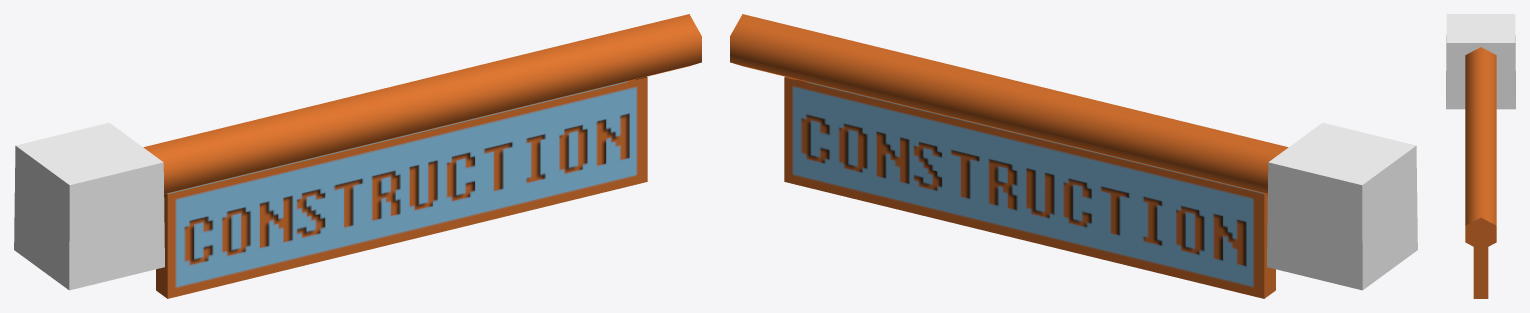
The model's file is Part_Name_Construction.FBX.
3 renders of one model, left to right at view 1: azimuth 30°, elevation 25°; view 2: azimuth 150°, elevation 25°; view 3: azimuth 270°, elevation 25°, orthographic. The views are drawn at different scales.
Visible parts, largest first — view 1: Part_Name_Construction; view 2: Part_Name_Construction; view 3: Part_Name_Construction.
Boxes of the visible parts, <box> form: Part_Name_Construction: <box>14,14,701,298</box>; Part_Name_Construction: <box>730,14,1417,298</box>; Part_Name_Construction: <box>1446,14,1515,298</box>.
Bounding box in the file's own units: 648 × 151 × 95.71.
